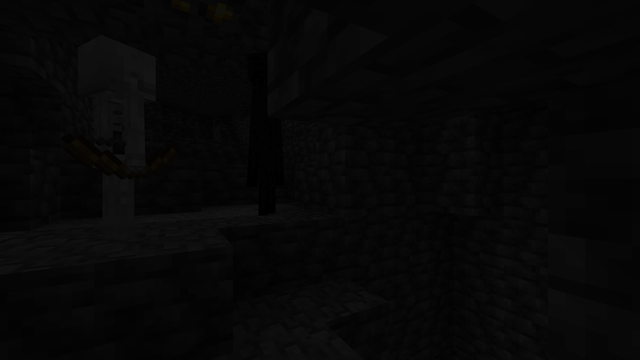endermens: (246, 41, 288, 216)
squelettes: (71, 31, 152, 246)
